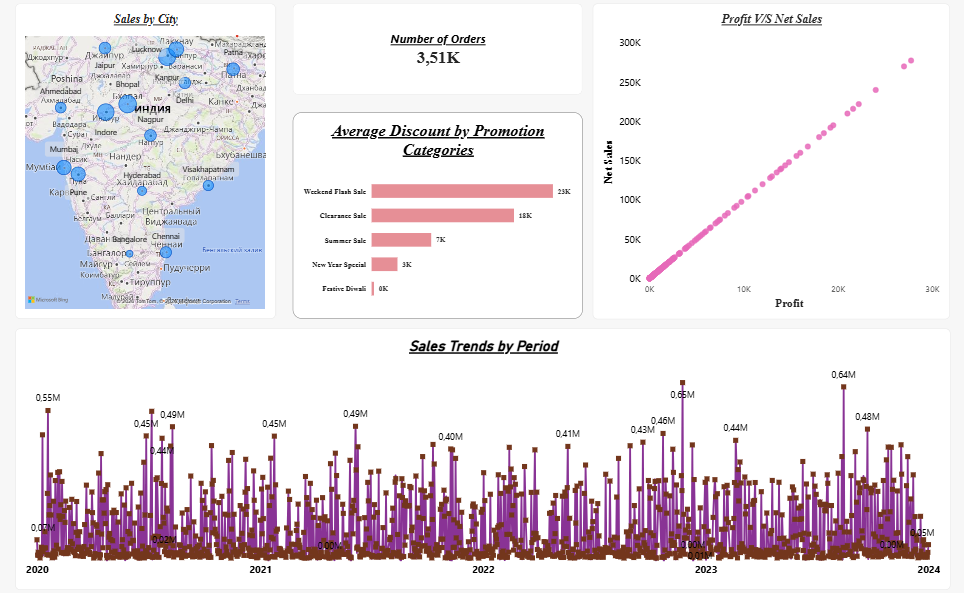

The page's visual inventory and layout, read from the dashboard file:
{"tool":"powerbi","page":{"name":"Overview","canvas":[1920,1080],"ordinal":1},"visuals":[{"type":"lineChart","title":"Sales Trends by Period","fields":{"Category":["Fact Table.Date (dd/mm/yyyy).Variation.Date Hierarchy.Year"],"Y":["Sum(Fact Table.Net Sales )"]},"box":[182.5,555,1540,430],"z":0},{"type":"scatterChart","title":"Profit V/S Net Sales ","fields":{"X":["Fact Table.Profit"],"Y":["Fact Table.Net Sales "]},"box":[1135,20,588.3,520],"z":1000},{"type":"barChart","title":"Average Discount by Promotion Categories","fields":{"Category":["Dim Promotion.Promotion Name"],"Y":["Avg(Fact Table.Discount)"]},"box":[640.6,199.1,477.8,340.2],"z":2000},{"type":"map","title":"Sales by City","fields":{"Category":["Dim Customers.City"],"Size":["Sum(Fact Table.Net Sales )"]},"box":[182.8,19.9,428.9,519.4],"z":3000},{"type":"cardVisual","fields":{"Data":["Count(Fact Table.Order ID)"]},"box":[640.6,19.9,477.8,150.2],"z":4000}]}

Visuals, with their boxes on the page's 1920x1080 design canvas (x1, y1, x2, y2). These are canvas units, not pixel positions in the 964x593 screenshot, which may show the page scaled, cropped or inside an application window:
"Sales Trends by Period" lineChart: x1=182, y1=555, x2=1722, y2=985
"Profit V/S Net Sales " scatterChart: x1=1135, y1=20, x2=1723, y2=540
"Average Discount by Promotion Categories" barChart: x1=641, y1=199, x2=1118, y2=539
"Sales by City" map: x1=183, y1=20, x2=612, y2=539
cardVisual - Count(Fact Table.Order ID): x1=641, y1=20, x2=1118, y2=170
